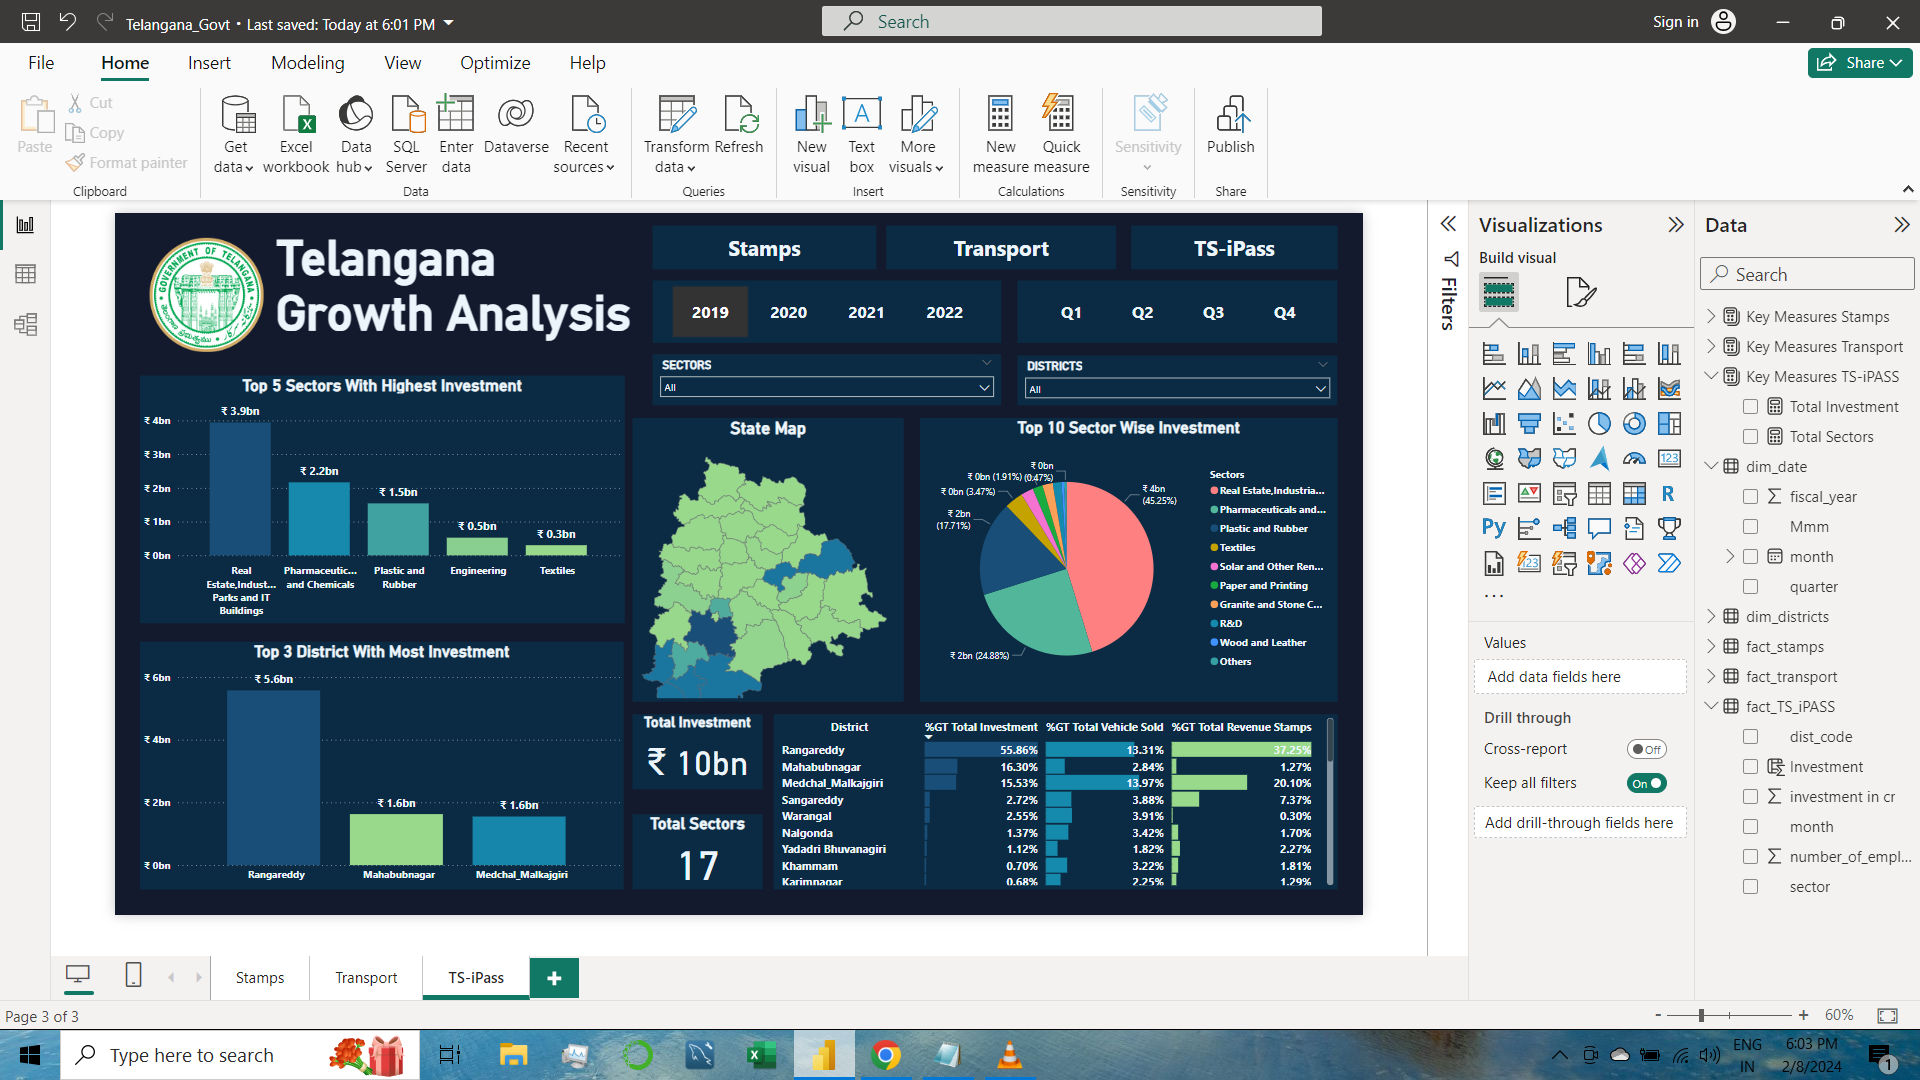

What the dashboard file says about the page in this screenshot:
{"tool":"powerbi","page":{"name":"TS-iPass","canvas":[1664,936],"ordinal":2},"visuals":[{"type":"slicer","fields":{"Values":["dim_date.fiscal_year"]},"box":[716.7,90,465,83.3],"z":0},{"type":"slicer","fields":{"Values":["dim_date.quarter"]},"box":[1203.3,90,426.7,83.3],"z":1000},{"type":"clusteredColumnChart","title":"Top 5 Sectors With Highest Investment","fields":{"Y":["Key Measures TS-iPASS.Total Investment"],"Category":["fact_TS_iPASS.sector"]},"box":[34,216,646,330],"z":2000},{"type":"clusteredColumnChart","title":"Top 3 District With Most Investment","fields":{"Category":["dim_districts.district"],"Y":["Key Measures TS-iPASS.Total Investment"]},"box":[33.3,571.7,645,330],"z":3000},{"type":"tableEx","title":"Investment Trend Monthly","fields":{"Values":["dim_districts.district","Key Measures TS-iPASS.Total Investment","Key Measures Transport.Total Vehicle Sold","Key Measures Stamps.Total Revenue Stamps"]},"box":[878.3,668.3,751.7,233.3],"z":4000},{"type":"shapeMap","title":"State Map","fields":{"Category":["dim_districts.district"],"Value":["Key Measures TS-iPASS.Total Investment"]},"box":[690,273.3,361.7,378.3],"z":5000},{"type":"card","title":"Total Sectors","fields":{"Values":["Key Measures TS-iPASS.Total Sectors"]},"box":[690,801.7,173.3,100],"z":6000},{"type":"card","title":"Total Investment ","fields":{"Values":["Key Measures TS-iPASS.Total Investment"]},"box":[690,668.3,173.3,100],"z":7000},{"type":"image","box":[33.3,28.3,176.7,161.7],"z":8000},{"type":"textbox","box":[210,16.7,506.7,173.3],"z":9000},{"type":"actionButton","box":[716.7,16.7,298.3,58.3],"z":10000},{"type":"actionButton","box":[1355,16.7,275,58.3],"z":11000},{"type":"actionButton","box":[1028.3,16.7,306.7,58.3],"z":12000},{"type":"slicer","fields":{"Values":["fact_TS_iPASS.sector"]},"box":[716.7,188.3,465,68.3],"z":13000},{"type":"slicer","fields":{"Values":["dim_districts.district"]},"box":[1203.3,190,426.7,66.7],"z":14000},{"type":"pieChart","title":"Top 10 Sector Wise Investment","fields":{"Category":["fact_TS_iPASS.sector"],"Y":["Key Measures TS-iPASS.Total Investment"]},"box":[1073.3,273.3,556.7,378.3],"z":15000}]}

Visuals, with their boxes on the page's 1664x936 design canvas (x1, y1, x2, y2). These are canvas units, not pixel positions in the 1920x1080 screenshot, which may show the page scaled, cropped or inside an application window:
slicer - dim_date.fiscal_year: left=717, top=90, right=1182, bottom=173
slicer - dim_date.quarter: left=1203, top=90, right=1630, bottom=173
"Top 5 Sectors With Highest Investment" clusteredColumnChart: left=34, top=216, right=680, bottom=546
"Top 3 District With Most Investment" clusteredColumnChart: left=33, top=572, right=678, bottom=902
"Investment Trend Monthly" tableEx: left=878, top=668, right=1630, bottom=902
"State Map" shapeMap: left=690, top=273, right=1052, bottom=652
"Total Sectors" card: left=690, top=802, right=863, bottom=902
"Total Investment " card: left=690, top=668, right=863, bottom=768
image: left=33, top=28, right=210, bottom=190
textbox: left=210, top=17, right=717, bottom=190
actionButton: left=717, top=17, right=1015, bottom=75
actionButton: left=1355, top=17, right=1630, bottom=75
actionButton: left=1028, top=17, right=1335, bottom=75
slicer - fact_TS_iPASS.sector: left=717, top=188, right=1182, bottom=257
slicer - dim_districts.district: left=1203, top=190, right=1630, bottom=257
"Top 10 Sector Wise Investment" pieChart: left=1073, top=273, right=1630, bottom=652
